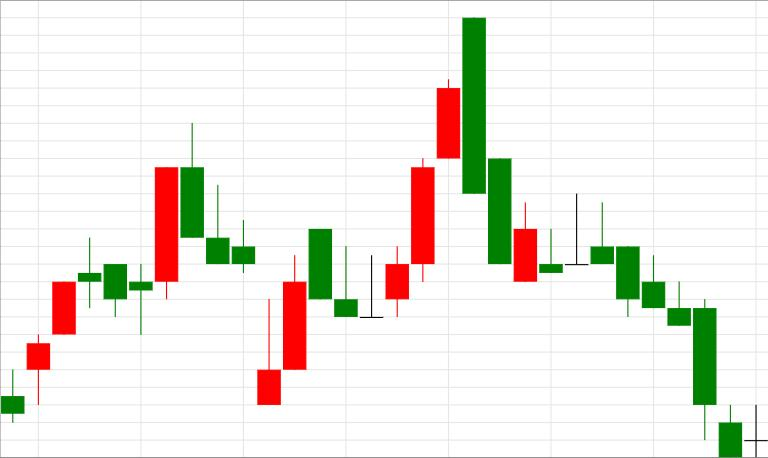bearish_engulfing_fall: (258, 18, 486, 405)
